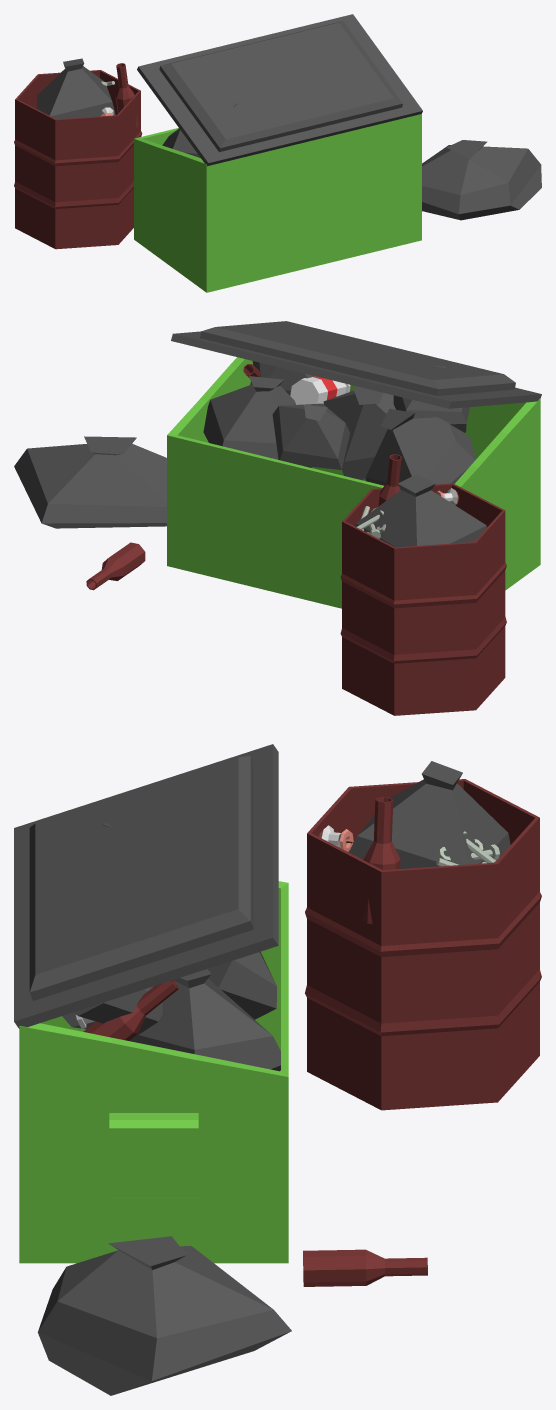
File: déchet mesh 3.fbx
3 renders of one model, top to bottom at view 1: azimuth 30°, elevation 25°; view 2: azimuth 150°, elevation 25°; view 3: azimuth 270°, elevation 25°, orthographic. The views are drawn at different scales.
Parts seen in each view (by area): view 1: entrepot dechets 6.010; view 2: entrepot dechets 6.010; view 3: entrepot dechets 6.010.
Part boxes in pixels (x1=…): entrepot dechets 6.010: x1=14, y1=14, x2=541, y2=292; entrepot dechets 6.010: x1=14, y1=321, x2=541, y2=715; entrepot dechets 6.010: x1=14, y1=744, x2=541, y2=1395.
Bounding box in the file's own units: 702 × 283 × 393.
